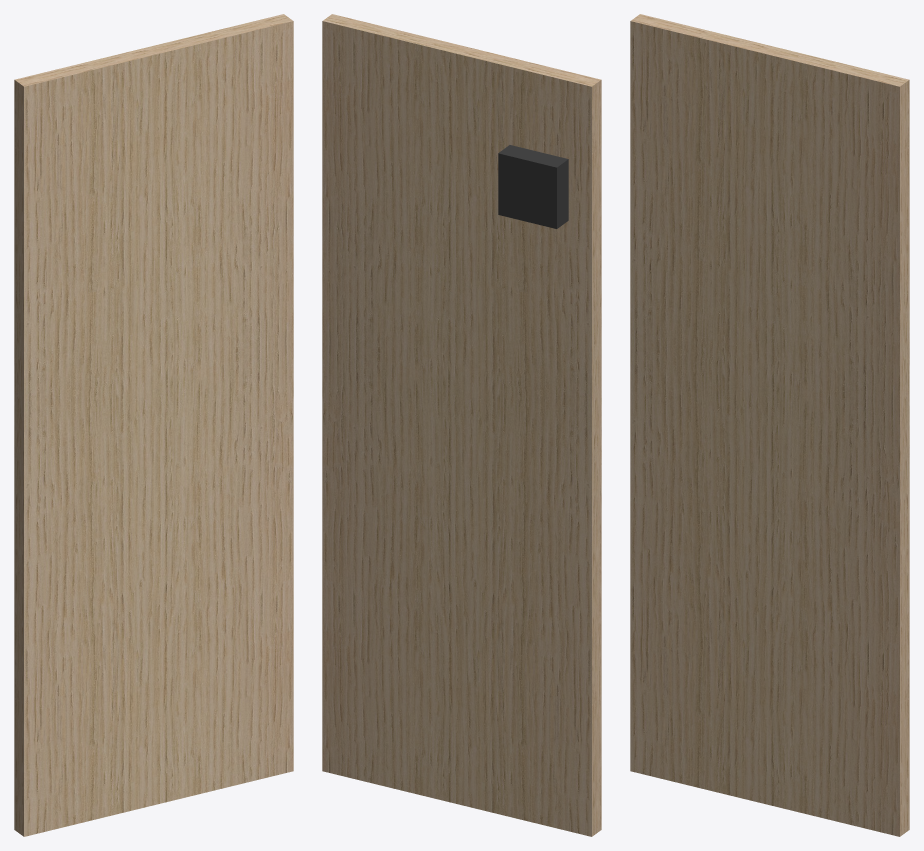
The model's file is A_skyvedor_front.glb.
The picture shows the model from 3 angles, left to right: view 1: azimuth 30°, elevation 25°; view 2: azimuth 150°, elevation 25°; view 3: azimuth 330°, elevation 25°; orthographic projection.
Visible parts, largest first — view 1: 2025-284 Resepsjon høyskap; view 2: 2025-284 Resepsjon høyskap; view 3: 2025-284 Resepsjon høyskap.
Part boxes in pixels (bbox=[...]): 2025-284 Resepsjon høyskap: bbox=[14, 14, 293, 836]; 2025-284 Resepsjon høyskap: bbox=[322, 14, 601, 836]; 2025-284 Resepsjon høyskap: bbox=[630, 14, 909, 836].
Bounding box in the file's own units: 307 × 817 × 42.
Materials: 2 (1 with a texture image).
